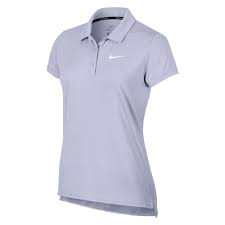C_polo shirt: (40, 8, 180, 222)
